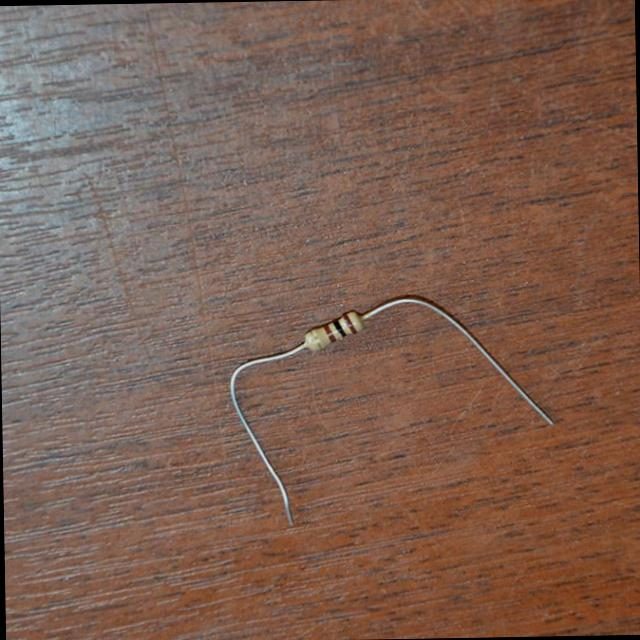Resistor: (304, 312, 361, 350)
brown: (342, 313, 356, 335), (323, 324, 336, 343)
gold: (309, 330, 323, 350)
